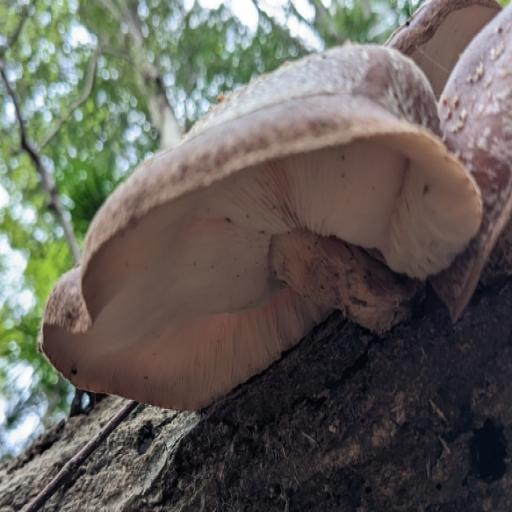Shiitake Mushroom: (21, 1, 512, 316)
